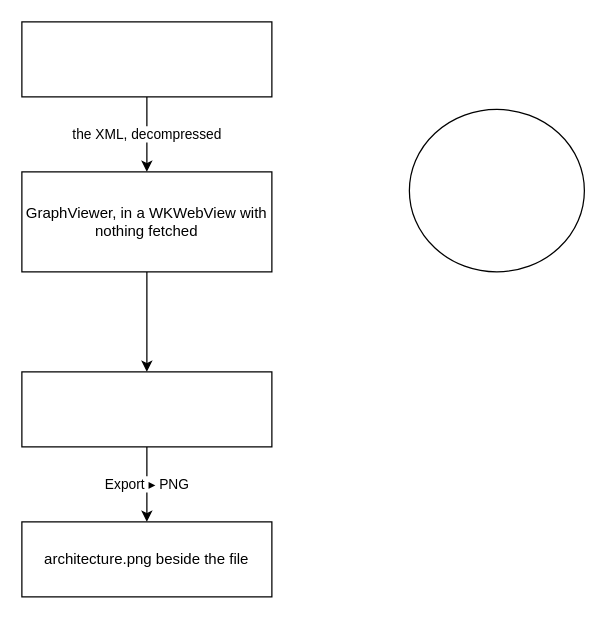
Image size: 606x619. Some labels were removed from this diagram. Here are the shapes that lost their labels. From the top down, the centre of each, then its label:
point (146, 59): a .drawio in the tree
point (146, 409): a picture in the preview pane
